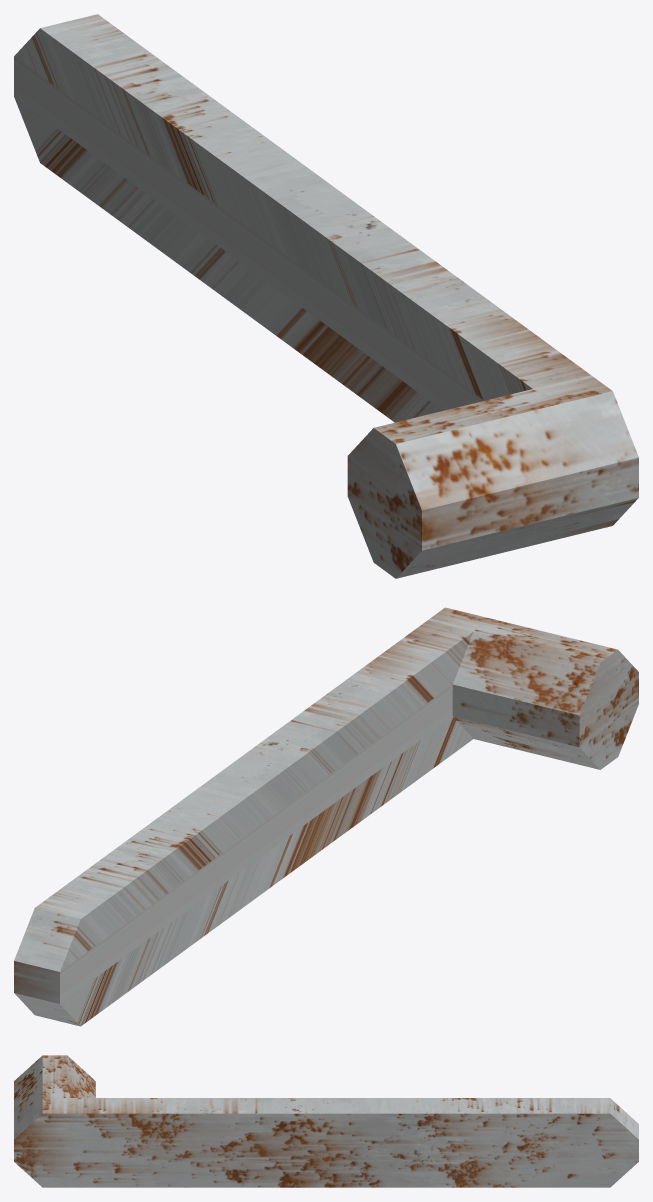
Rendered from door_001_handle.glb.
3 renders of one model, top to bottom at view 1: azimuth 30°, elevation 25°; view 2: azimuth 150°, elevation 25°; view 3: azimuth 270°, elevation 25°, orthographic. The views are drawn at different scales.
Visible parts, largest first — view 1: Cube.077; view 2: Cube.077; view 3: Cube.077.
Boxes of the visible parts, left/top/right/bottom form: Cube.077: left=14, top=14, right=638, bottom=578; Cube.077: left=14, top=607, right=638, bottom=1026; Cube.077: left=14, top=1055, right=638, bottom=1187.
Size of the model in its own units: 0.0252 by 0.0149 by 0.114.
Materials: 1 (1 with a texture image).
